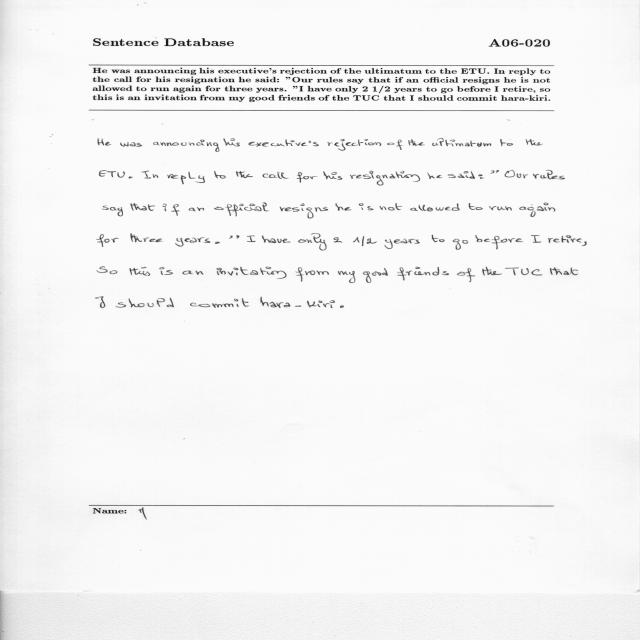word: (350, 171, 420, 186), (217, 267, 287, 279), (260, 297, 335, 308), (153, 140, 220, 152), (280, 204, 328, 219), (214, 203, 269, 216), (397, 267, 449, 280), (476, 235, 524, 249), (328, 139, 382, 151), (190, 298, 249, 308), (116, 298, 174, 308), (248, 139, 319, 147), (432, 138, 491, 147), (298, 233, 327, 251), (519, 203, 555, 217), (296, 267, 329, 282), (167, 172, 205, 184), (410, 204, 460, 212), (363, 268, 388, 283), (384, 239, 420, 249), (505, 267, 542, 276), (175, 238, 210, 247), (99, 170, 133, 179), (130, 234, 163, 243), (533, 171, 565, 180), (97, 234, 119, 247), (548, 235, 582, 243), (457, 268, 475, 282), (353, 236, 377, 246), (297, 172, 318, 183), (102, 206, 123, 217), (262, 236, 290, 244), (550, 267, 578, 275), (163, 203, 180, 216), (448, 171, 475, 179), (338, 271, 355, 283), (131, 203, 156, 211), (130, 267, 151, 276), (505, 171, 528, 179), (263, 172, 289, 179), (482, 267, 502, 276), (387, 139, 403, 150), (380, 203, 402, 211), (324, 171, 343, 180), (453, 239, 468, 250), (97, 267, 118, 274), (223, 139, 240, 147), (142, 171, 159, 179), (335, 203, 352, 211), (408, 139, 425, 146), (236, 171, 253, 178), (159, 267, 173, 275), (120, 142, 142, 147), (96, 297, 106, 308), (428, 172, 443, 179), (183, 270, 204, 275), (526, 139, 543, 145), (359, 203, 373, 210), (469, 203, 483, 210), (214, 171, 226, 179), (489, 206, 512, 210), (98, 139, 111, 146), (500, 139, 513, 146), (432, 235, 445, 242), (531, 235, 541, 243), (247, 235, 256, 242), (189, 208, 204, 212), (334, 237, 343, 243), (229, 235, 239, 239), (490, 170, 499, 174), (478, 174, 484, 179), (582, 241, 587, 246), (340, 305, 344, 308), (215, 242, 220, 244)
